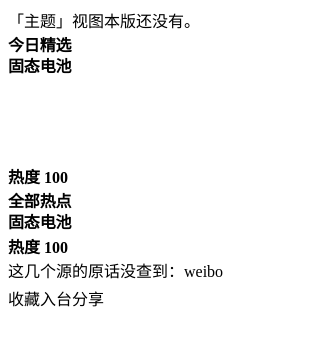
Test: 入台之后 › **失败 NEVER 导航**，且屏上是服务端自己的说明（阴性对照）
Click the button with test id "action-workbench" at (56, 298), box [40, 282, 72, 314]
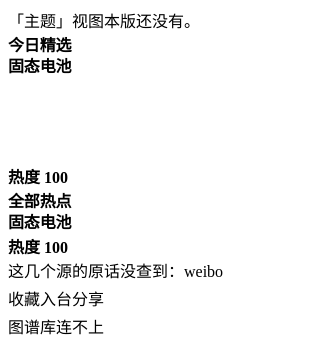
Now the message with test id "action-outcome" reads "图谱库连不上", box [8, 319, 104, 336]
